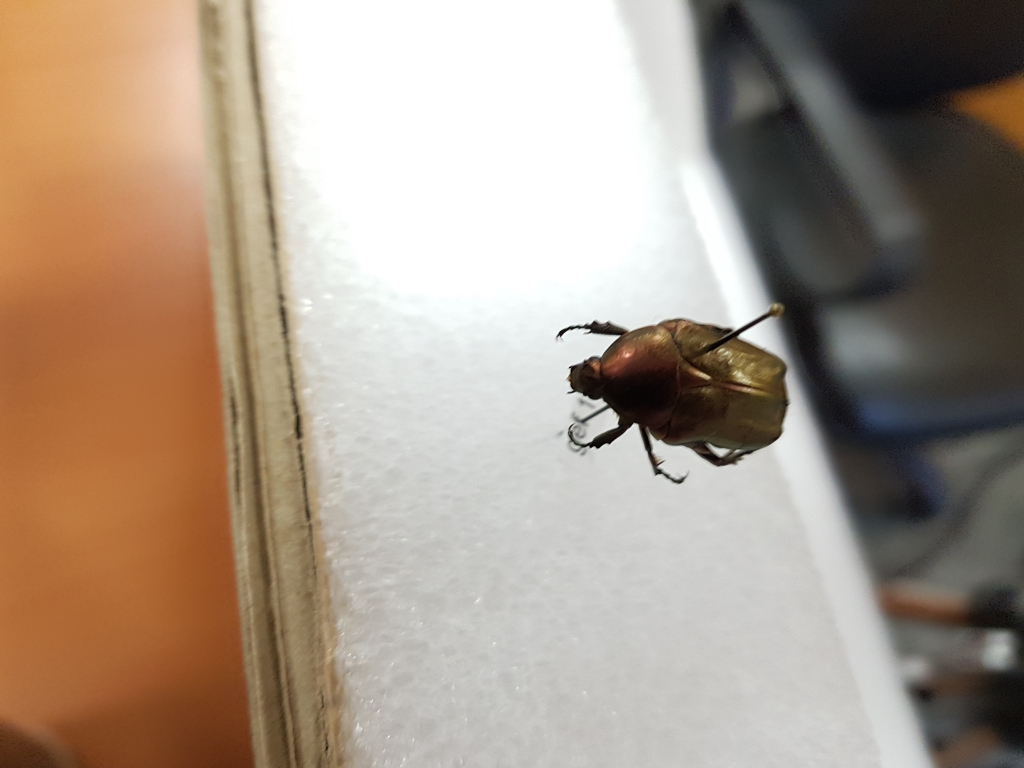Cetonia_aurata: (545, 305, 798, 492)
